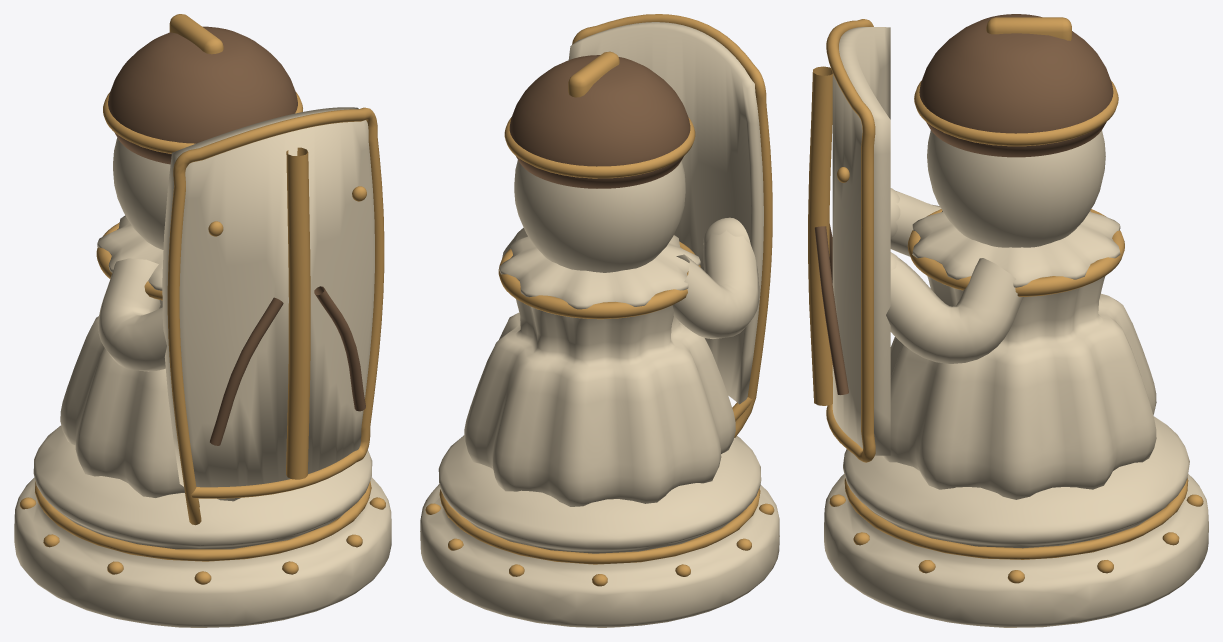
Rendered from defender.glb.
The picture shows the model from 3 angles, left to right: view 1: azimuth 30°, elevation 25°; view 2: azimuth 150°, elevation 25°; view 3: azimuth 270°, elevation 25°; orthographic projection. The views are drawn at different scales.
Visible parts, largest first — view 1: PIECE_Defender_Sculpture, PIECE_Defender_Base; view 2: PIECE_Defender_Sculpture, PIECE_Defender_Base; view 3: PIECE_Defender_Sculpture, PIECE_Defender_Base.
Part boxes in pixels (x1,y1,x2,y2): PIECE_Defender_Sculpture: [60, 14, 384, 525]; PIECE_Defender_Base: [14, 425, 391, 627]; PIECE_Defender_Sculpture: [464, 14, 772, 506]; PIECE_Defender_Base: [420, 435, 779, 627]; PIECE_Defender_Sculpture: [808, 14, 1156, 499]; PIECE_Defender_Base: [824, 416, 1208, 627].
Size of the model in its own units: 0.719 by 1.1 by 0.7486.
